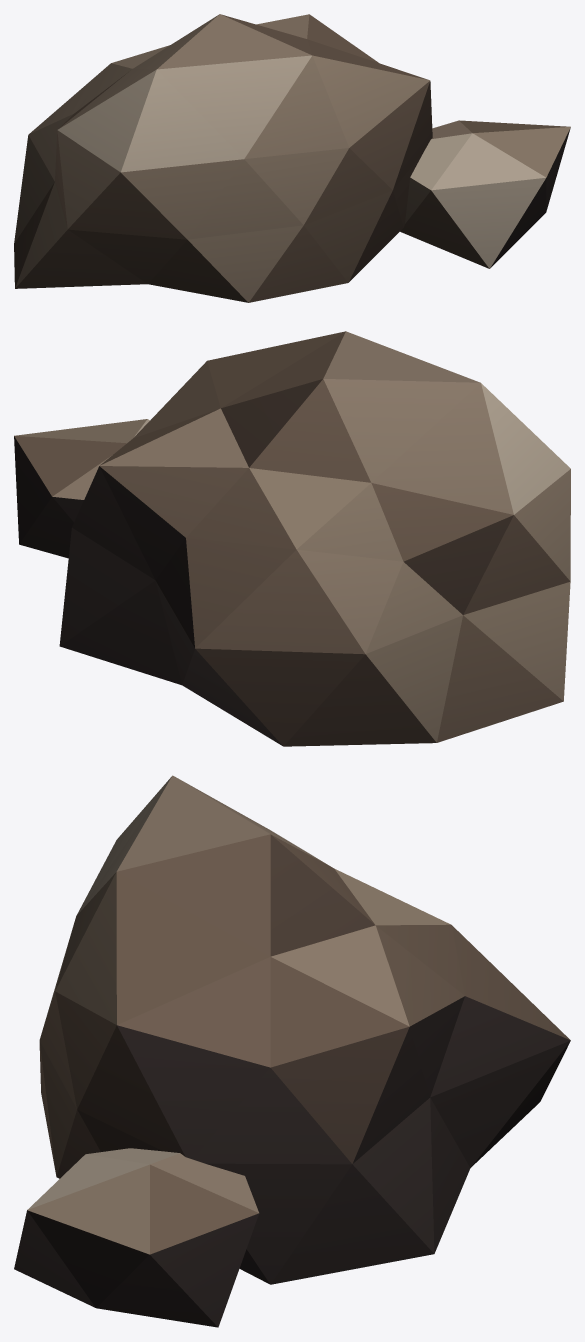
Rendered from rock_small_a.glb.
3 renders of one model, top to bottom at view 1: azimuth 30°, elevation 25°; view 2: azimuth 150°, elevation 25°; view 3: azimuth 270°, elevation 25°, orthographic. The views are drawn at different scales.
Parts seen in each view (by area): view 1: rock_small_a; view 2: rock_small_a; view 3: rock_small_a.
Part boxes in pixels (x1=…): rock_small_a: x1=14, y1=14, x2=570, y2=302; rock_small_a: x1=14, y1=331, x2=570, y2=746; rock_small_a: x1=14, y1=775, x2=570, y2=1327.
Size of the model in its own units: 0.5393 by 0.2348 by 0.3691.
